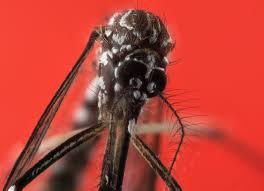Insects: (3, 7, 264, 191)
